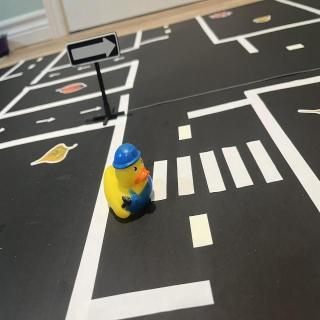duck_specialty: (102, 143, 156, 223)
road_crosswalk: (152, 135, 287, 208)
road_oneway: (34, 115, 60, 129), (75, 108, 103, 116)
sign_oneway_right: (68, 35, 122, 69)
